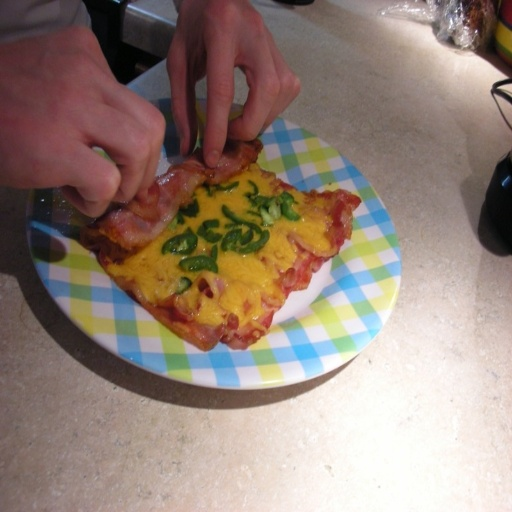hand: (0, 21, 167, 223), (152, 0, 309, 159)
